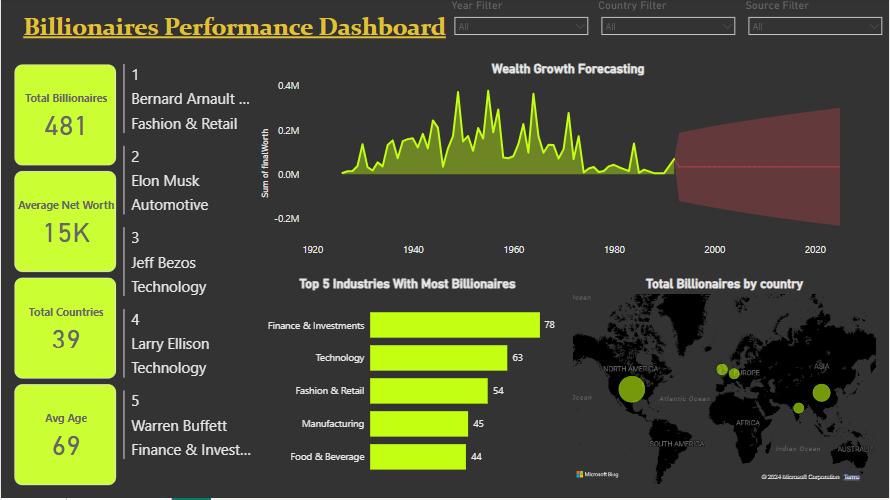

What the dashboard file says about the page in this screenshot:
{"tool":"powerbi","page":{"name":"Dashboard1","canvas":[1350,760],"ordinal":0},"visuals":[{"type":"cardVisual","fields":{"Data":["Calculations.Total Billionaires","Calculations.Total Net Worth","Calculations.Total Countries","Calculations.Avg age"]},"box":[15.2,95.8,165.7,653.6],"z":0},{"type":"lineChart","title":"Wealth Growth Forecasting","fields":{"Category":["Raw Data.birthYear"],"Y":["Sum(Raw Data.finalWorth)"]},"box":[389.1,95.8,945.4,307],"z":1000},{"type":"map","fields":{"Category":["Raw Data.country"],"Size":["Calculations.Total Billionaires"]},"box":[864.9,422.6,469.7,320.7],"z":2000},{"type":"barChart","title":"Top 5 Industries With Most Billionaires","fields":{"Category":["Raw Data.industries"],"Y":["Calculations.Total Billionaires"]},"box":[389.1,422.6,457.5,320.7],"z":3000},{"type":"textbox","box":[28.9,15.2,671.8,66.9],"z":4000},{"type":"multiRowCard","fields":{"Values":["Raw Data.rank","Raw Data.personName","Raw Data.industries"]},"box":[180.9,95.8,208.2,653.6],"z":5000},{"type":"slicer","title":"Source Filter","fields":{"Values":["Raw Data.source"]},"box":[1126.3,0,223.4,65.4],"z":5002},{"type":"slicer","title":"Country Filter","fields":{"Values":["Raw Data.country"]},"box":[902.9,0,223.4,65.4],"z":5003},{"type":"slicer","title":"Year Filter","fields":{"Values":["Raw Data.birthYear"]},"box":[679.4,0,223.4,65.4],"z":5004}]}

Visuals, with their boxes in screenshot pixels (x1, y1, x2, y2), scaled from the page's 1350x760 canvas onto the 890x500 screenshot:
cardVisual - Calculations.Total Billionaires x Calculations.Total Net Worth: <region>10, 63, 119, 493</region>
"Wealth Growth Forecasting" lineChart: <region>257, 63, 880, 265</region>
map - Raw Data.country x Calculations.Total Billionaires: <region>570, 278, 880, 489</region>
"Top 5 Industries With Most Billionaires" barChart: <region>257, 278, 558, 489</region>
textbox: <region>19, 10, 462, 54</region>
multiRowCard - Raw Data.rank x Raw Data.personName: <region>119, 63, 257, 493</region>
"Source Filter" slicer: <region>743, 0, 889, 43</region>
"Country Filter" slicer: <region>595, 0, 743, 43</region>
"Year Filter" slicer: <region>448, 0, 595, 43</region>
